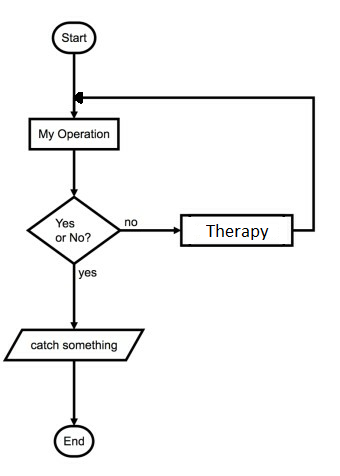arrow: (75, 93, 317, 234), (69, 361, 79, 423), (70, 263, 78, 330), (70, 54, 78, 119), (118, 226, 182, 234), (70, 150, 78, 199)
data: (3, 327, 145, 364)
decision: (26, 196, 120, 264)
process: (178, 213, 296, 249), (26, 116, 122, 152)
terminator: (52, 20, 98, 54), (53, 424, 96, 459)
text: (29, 339, 119, 354), (36, 125, 112, 141), (205, 223, 270, 241), (54, 216, 91, 246), (60, 29, 89, 46), (62, 434, 85, 449), (78, 268, 97, 280), (123, 216, 139, 227)
